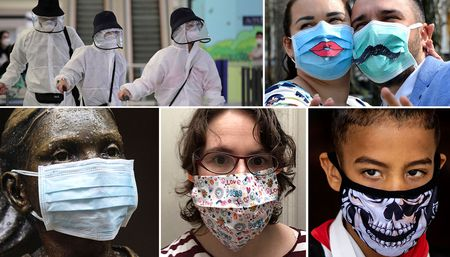with_mask: (19, 110, 147, 247), (327, 117, 450, 251), (182, 113, 301, 245), (349, 7, 440, 91), (280, 1, 356, 81), (180, 16, 210, 47), (36, 10, 59, 31), (100, 25, 122, 43)
